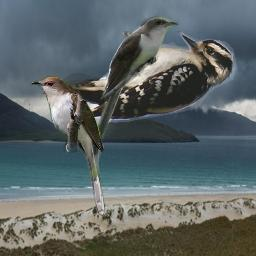Cuckoo: (90, 15, 179, 148), (29, 75, 105, 216)
Woodpecker: (41, 31, 246, 127)
